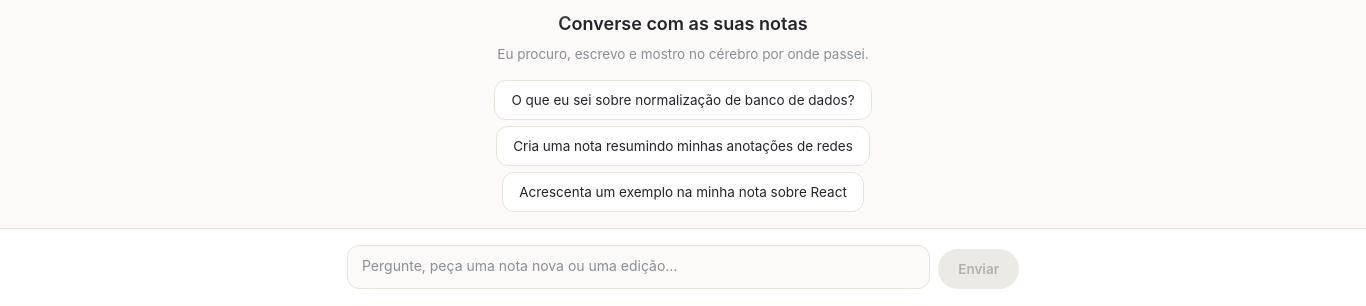
Test: Chat › clicar numa sugestão preenche o campo sem enviar a mensagem
Click the button "Cria uma nota resumindo minhas anotações de redes" at (683, 146), box [496,126,870,166]
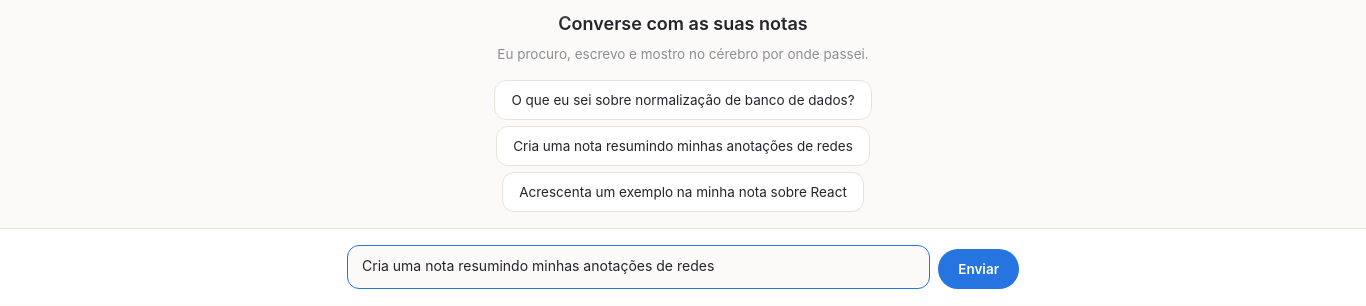
Result: the text box with placeholder "Pergunte, peça uma nota nova ou uma edição…" holds "Cria uma nota resumindo minhas anotações de redes" at [347,245,930,289]
